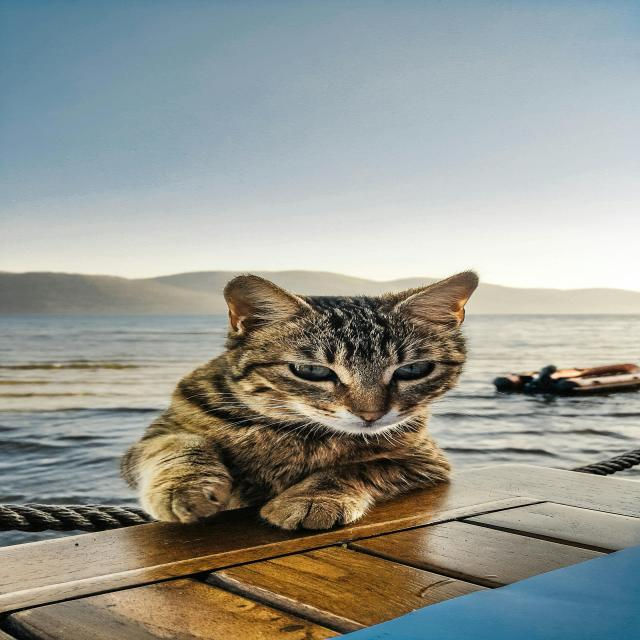Cat: (118, 268, 483, 532)
